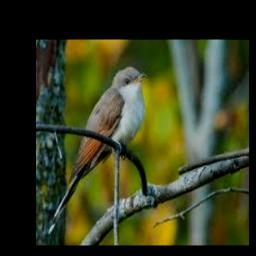Cuckoo: (48, 67, 146, 233)
